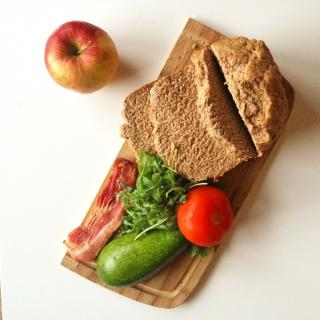tomato: (175, 186, 233, 250)
